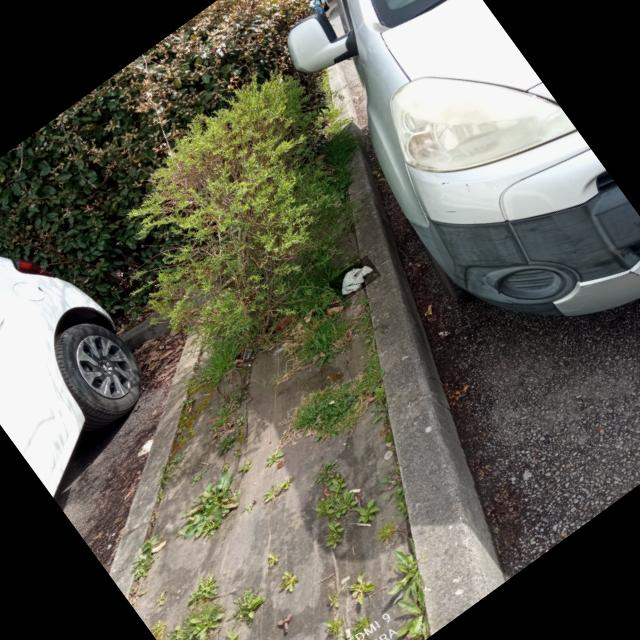Paper bag: (328, 254, 381, 302)
